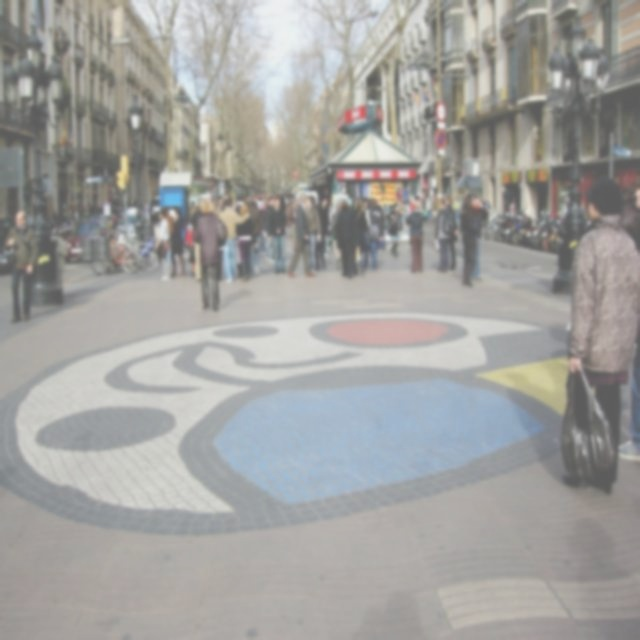pessoa: (560, 174, 640, 496), (602, 174, 640, 302), (190, 195, 230, 313), (3, 209, 40, 323), (216, 184, 320, 218), (51, 195, 156, 224), (284, 192, 317, 280), (218, 195, 250, 284), (332, 196, 362, 280), (401, 184, 474, 213), (459, 192, 479, 290), (360, 196, 385, 274), (404, 198, 426, 274), (268, 196, 288, 275), (434, 196, 454, 274), (167, 202, 186, 280), (304, 195, 322, 276), (470, 194, 486, 282), (154, 207, 172, 281), (188, 198, 204, 278), (247, 194, 262, 279), (353, 196, 369, 274), (443, 195, 459, 273), (310, 195, 326, 271), (384, 200, 404, 258), (260, 195, 276, 264), (315, 194, 330, 258), (330, 200, 343, 271), (288, 198, 300, 252), (164, 204, 175, 235), (482, 194, 492, 228), (425, 195, 432, 225), (187, 200, 196, 211), (370, 196, 378, 208)
